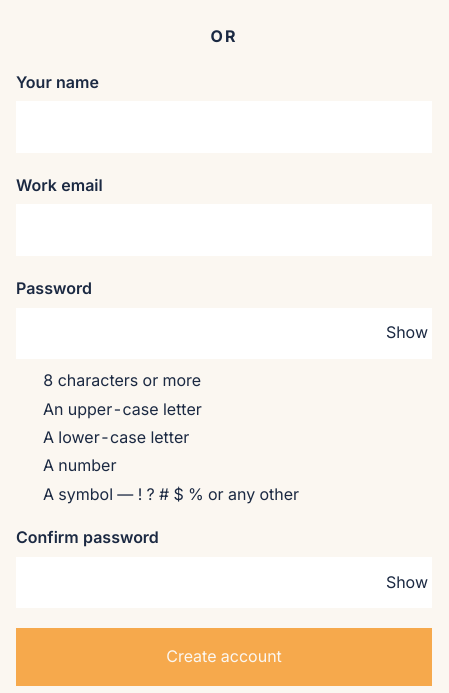
Scenario: the live checklist › marks the rules a half-typed password already meets, and only those
(page scrolled)
Type "Nor" into the password field labelled "Password" at (224, 333), box [16,308,432,359]
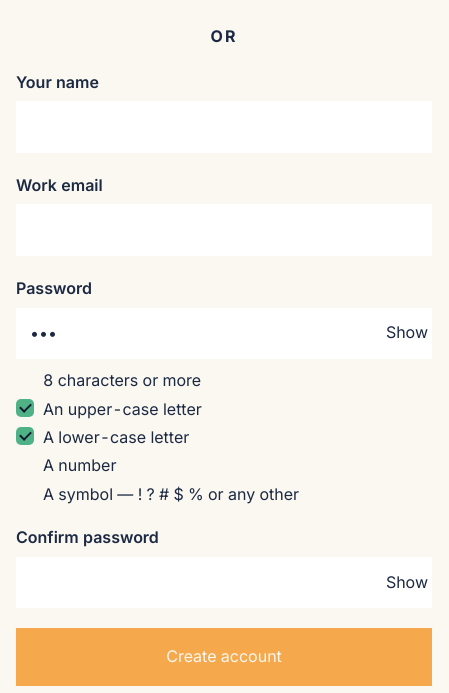
Expected: the list item "An upper-case letter" has attribute data-met="true", [16,399,202,419]
